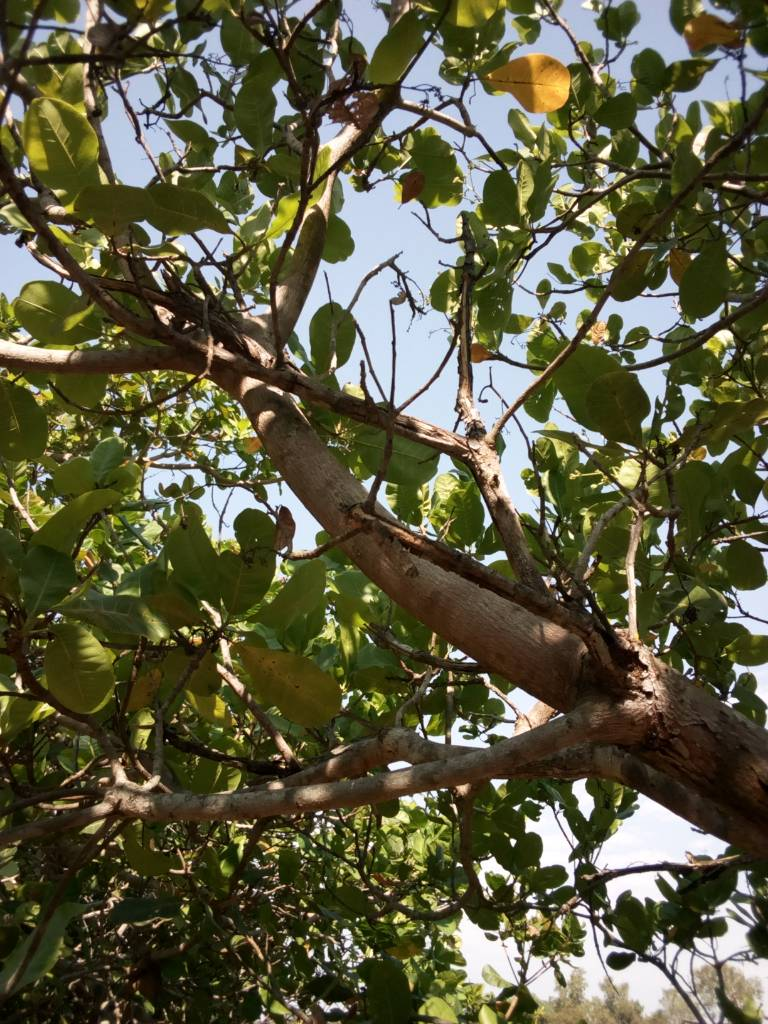Dessèchement des bourgeons: (101, 20, 214, 135), (174, 616, 225, 674)
